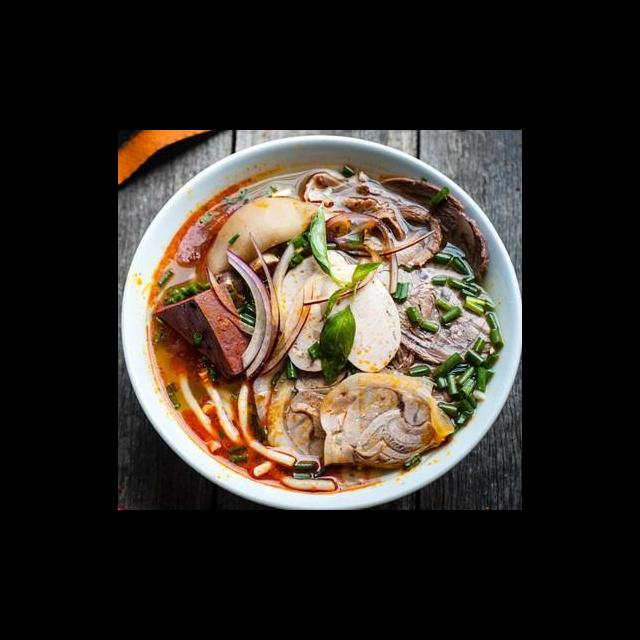bun: (134, 176, 282, 338)
bun bo: (147, 151, 501, 483)
thit bo: (260, 352, 396, 491), (352, 358, 480, 482), (154, 315, 270, 450), (369, 302, 482, 440), (162, 262, 285, 351)
